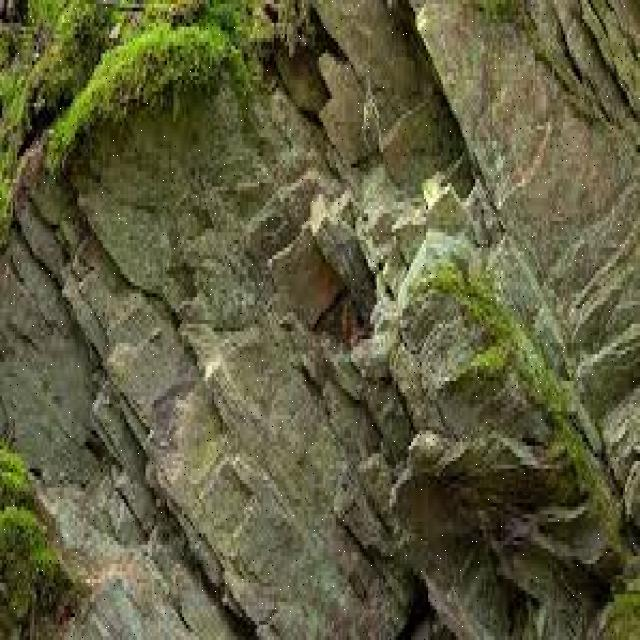Metamorphic: (15, 12, 636, 632)
